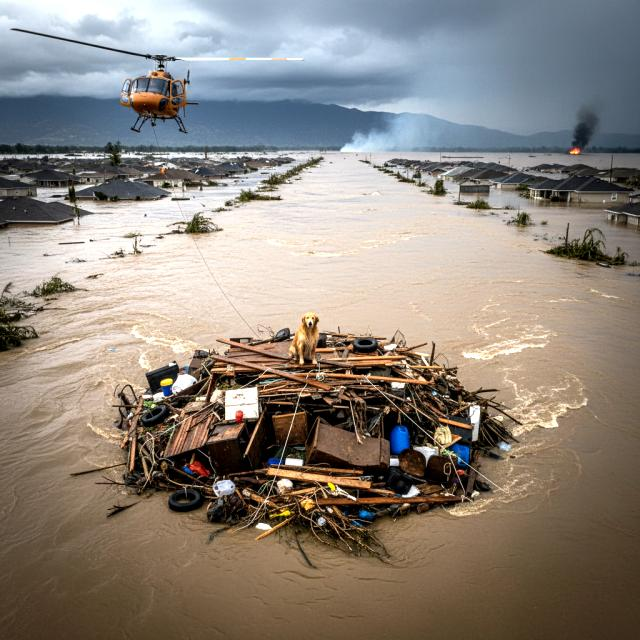dog: (290, 304, 322, 370)
